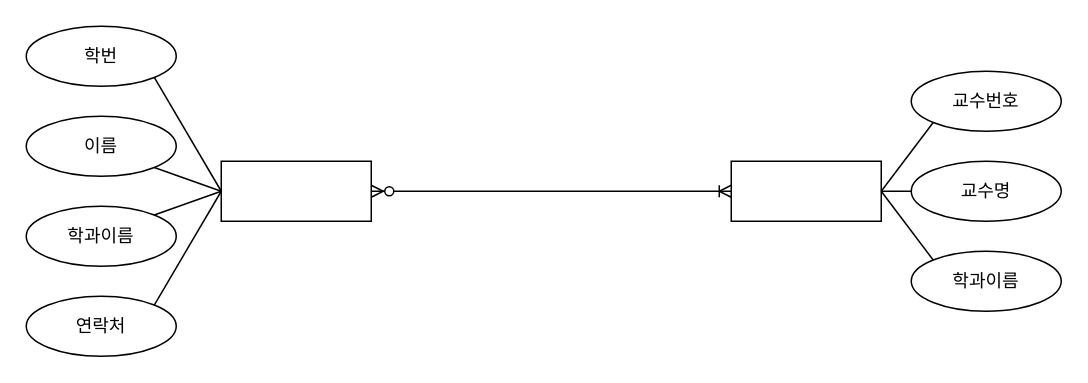
The diagram is 1088 pixels wide and 383 high, and some of its shapes have lost their labels. Here are the shapes that lost their labels. From the top down, the centre of each, then its label:
At point 295,190: "학생".
At point 805,190: "교수".
